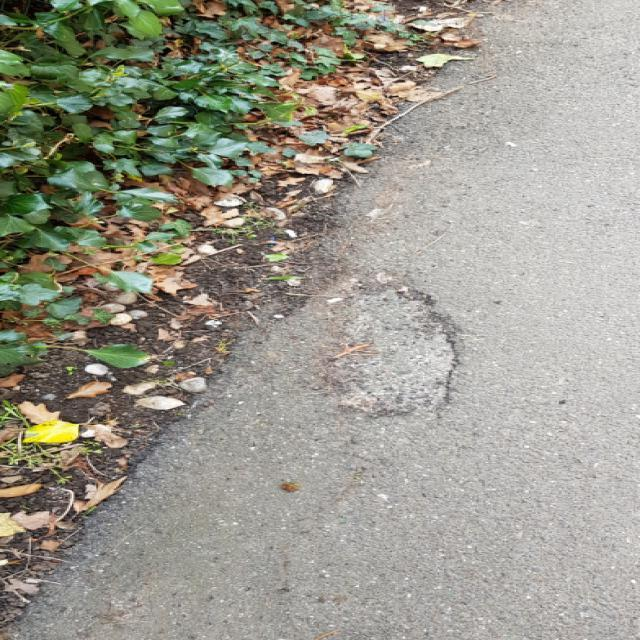Pothole: (335, 280, 467, 422)
